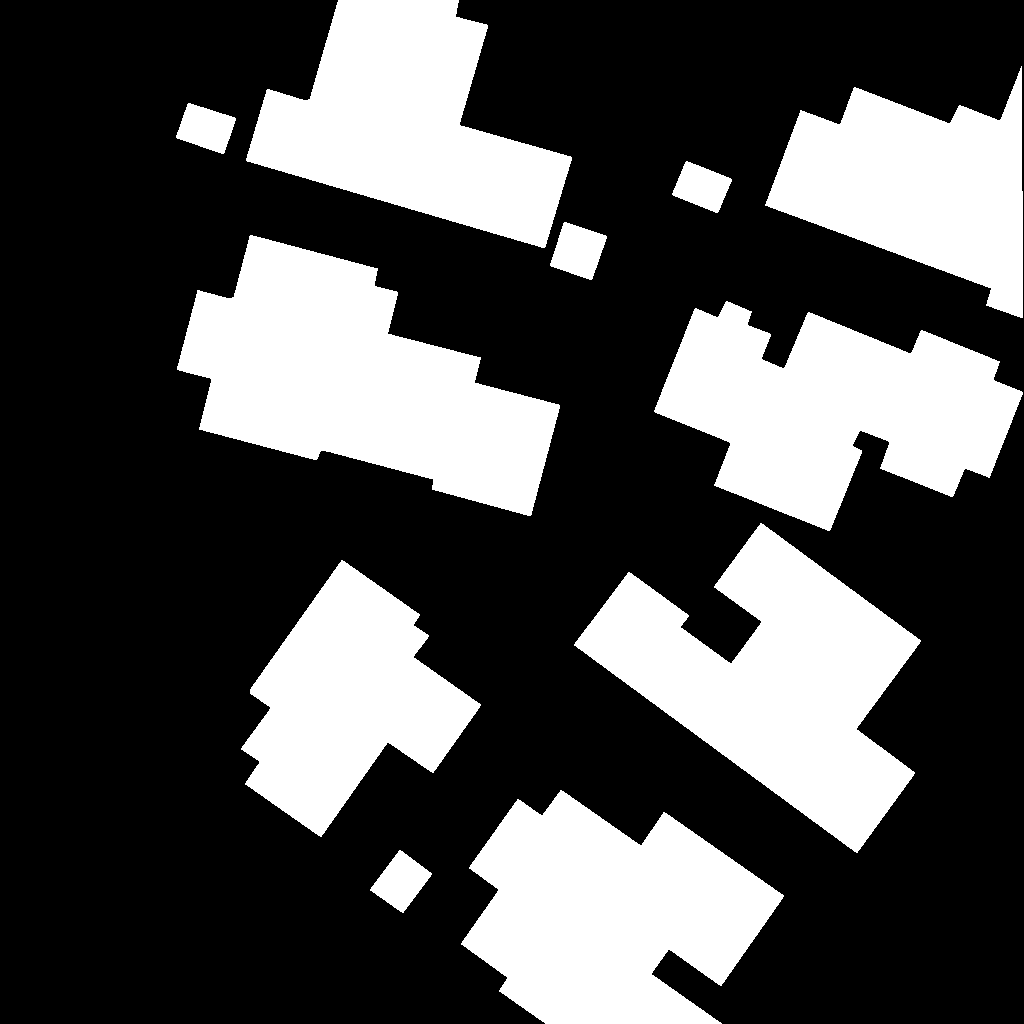building: (574, 523, 922, 854), (177, 235, 561, 517), (654, 301, 1024, 532), (246, 0, 573, 249), (461, 790, 785, 1024), (241, 560, 482, 838), (765, 65, 1024, 319), (370, 850, 433, 914), (550, 222, 608, 281), (672, 161, 733, 214), (176, 103, 237, 155)
